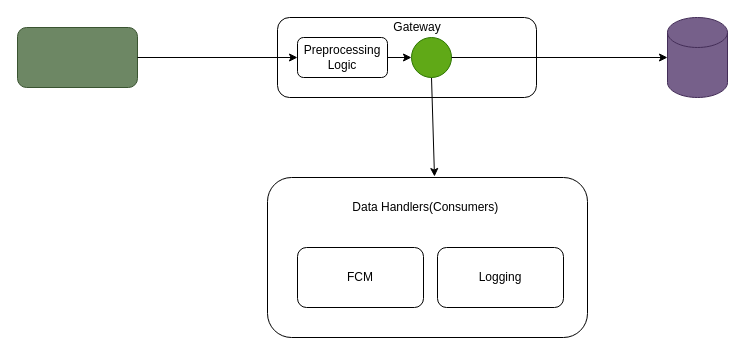
Some shapes in this 745 by 355 pixel diagram are drawn without their labels. The shapes that lost their labels are listed below. From the top down, each one's box as (x1, y1, x2, y2) in pixels, then its label:
(16, 26, 138, 88): Producer (Worker Service)
(666, 16, 728, 98): Hard Storage
